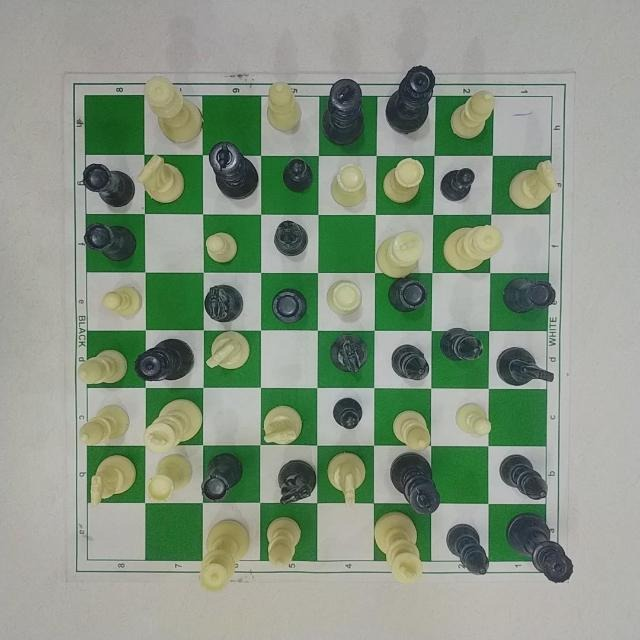black-bishop: (436, 520, 493, 585), (493, 453, 553, 508), (264, 219, 317, 269), (433, 318, 488, 366), (387, 339, 435, 388)
black-king: (388, 443, 447, 518), (323, 67, 375, 149), (206, 134, 262, 203)
black-knight: (488, 340, 560, 393), (324, 328, 376, 387), (264, 454, 317, 506), (200, 273, 250, 328)
black-pawn: (435, 157, 481, 209), (275, 153, 323, 202), (331, 393, 369, 435)
black-queen: (501, 510, 581, 587), (378, 62, 440, 146), (134, 335, 200, 391)
black-rook: (74, 211, 145, 269), (78, 154, 141, 210), (193, 443, 251, 502), (499, 268, 557, 325), (263, 280, 315, 329), (385, 277, 434, 317)
white-bishop: (447, 86, 509, 151), (70, 343, 131, 397), (259, 72, 305, 143), (70, 402, 138, 450), (259, 514, 309, 576), (389, 405, 435, 455)
white-king: (372, 504, 430, 592), (138, 388, 207, 457), (369, 225, 431, 281)
white-knight: (315, 443, 374, 517), (498, 154, 567, 215), (135, 148, 187, 210), (251, 403, 307, 459), (83, 455, 139, 511), (198, 331, 256, 378)
white-pawn: (95, 282, 159, 324), (451, 397, 501, 449), (200, 223, 247, 271)
white-queen: (135, 70, 213, 154), (190, 506, 254, 594), (433, 223, 509, 279)
white-rook: (328, 154, 377, 216), (376, 154, 431, 207), (140, 451, 194, 499), (323, 277, 369, 327)
